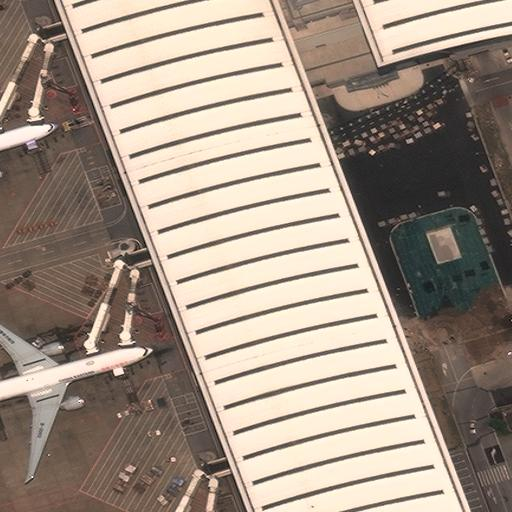Large Civil Transport: (0, 310, 154, 478), (0, 108, 59, 197)
